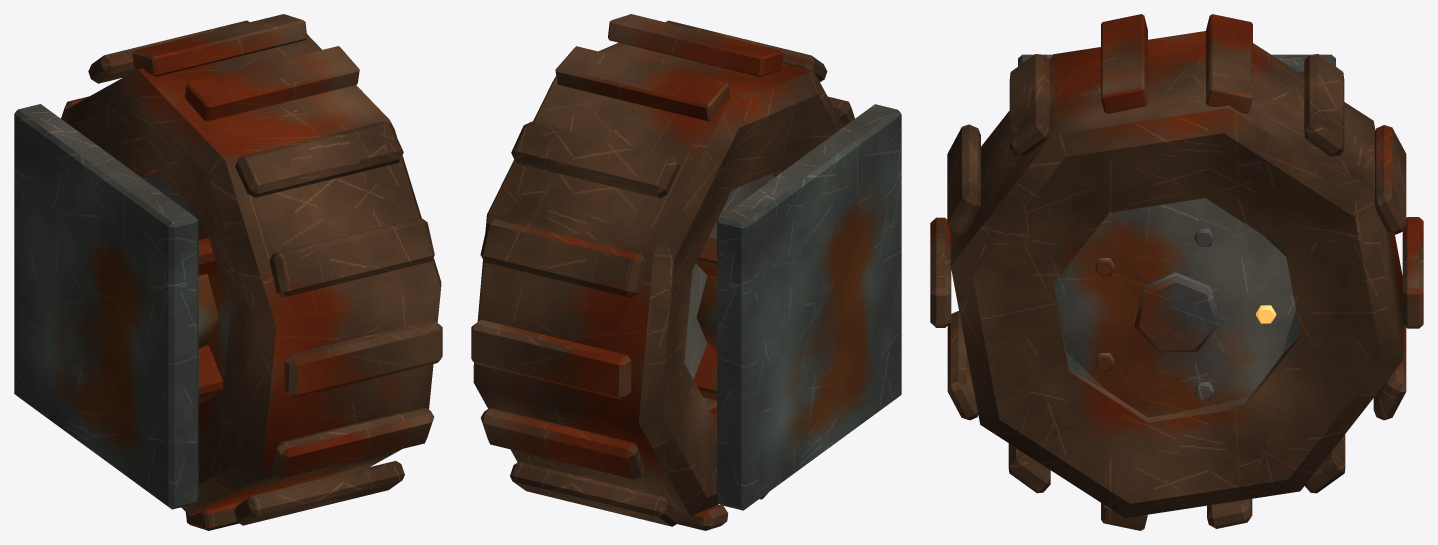
File: R4M_WheelM_Side_Offroad_LOD1.glb
3 renders of one model, left to right at view 1: azimuth 30°, elevation 25°; view 2: azimuth 150°, elevation 25°; view 3: azimuth 270°, elevation 25°, orthographic.
Visible parts, largest first — view 1: R4M_WheelM_Side_Offroad_LOD1; view 2: R4M_WheelM_Side_Offroad_LOD1; view 3: R4M_WheelM_Side_Offroad_LOD1.
Part boxes in pixels (box(x1,y1,x2,y2)): R4M_WheelM_Side_Offroad_LOD1: box(14, 14, 442, 530); R4M_WheelM_Side_Offroad_LOD1: box(471, 14, 901, 530); R4M_WheelM_Side_Offroad_LOD1: box(930, 14, 1423, 530).
Size of the model in its own units: 0.452 by 0.7702 by 0.776.
Materials: 5 (4 with a texture image).
